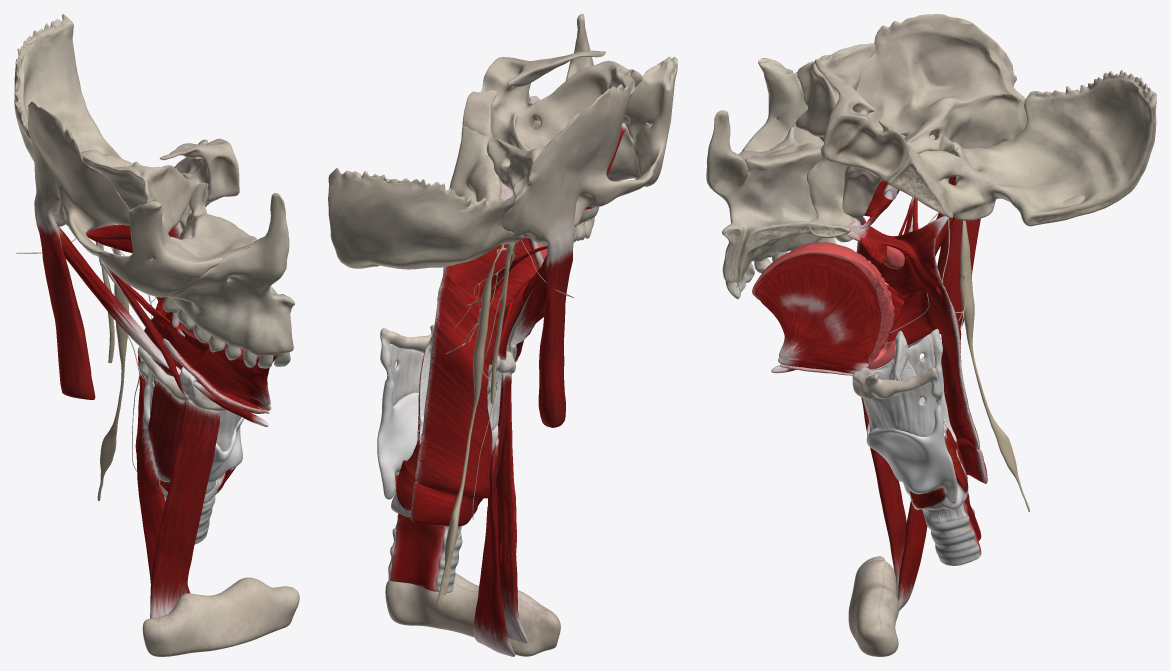
The model's file is pharynx.glb.
3 views of the same model, side by side, from view 1: azimuth 30°, elevation 25°; view 2: azimuth 150°, elevation 25°; view 3: azimuth 270°, elevation 25° (orthographic). The views are drawn at different scales.
Parts seen in each view (by area): view 1: _skull_bones_and_other_muscless2_4, _paltine_and_teeth2_2, Sternohyoid_sternothryoid_and_thyrohyoid_1, Clavicle_and_sternum_4, Spehnoid_and_lateral_pterygoid_1, Occipital_1, _stylohyoid_1, _genioglossus_etc_2, Top_half_larynx, Stylo_and_hyoglossus_3, Cervical_nerve_superior, Mylohyoid_and_geniohyoid_1 (+3 smaller); view 2: _skull_bones_and_other_muscless2_4, Pharynx_8, Occipital_1, Spehnoid_and_lateral_pterygoid_1, Sternohyoid_sternothryoid_and_thyrohyoid_1, Clavicle_and_sternum_4, Top_half_larynx, Trachea, _paltine_and_teeth2_2, Cervical_nerve_superior, Thryhyoid_membrane, Vagus (+3 smaller); view 3: Occipital_1, _skull_bones_and_other_muscless2_4, _paltine_and_teeth2_2, _genioglossus_etc_2, Pharynx_8, Spehnoid_and_lateral_pterygoid_1, Top_half_larynx, Clavicle_and_sternum_4, Sternohyoid_sternothryoid_and_thyrohyoid_1, Thryhyoid_membrane, Cervical_nerve_superior, Trachea (+2 smaller).
Part boxes in pixels (x1,y1,x2,y2): _skull_bones_and_other_muscless2_4: (28, 101, 222, 399); _paltine_and_teeth2_2: (163, 182, 294, 368); Sternohyoid_sternothryoid_and_thyrohyoid_1: (136, 378, 220, 618); Clavicle_and_sternum_4: (142, 577, 299, 656); Spehnoid_and_lateral_pterygoid_1: (83, 138, 239, 252); Occipital_1: (14, 14, 177, 169); _stylohyoid_1: (58, 226, 268, 426); _genioglossus_etc_2: (180, 322, 277, 404); Top_half_larynx: (137, 346, 244, 482); Stylo_and_hyoglossus_3: (104, 264, 207, 376); Cervical_nerve_superior: (97, 224, 151, 500); Mylohyoid_and_geniohyoid_1: (162, 338, 271, 413); _skull_bones_and_other_muscless2_4: (487, 56, 677, 427); Pharynx_8: (411, 189, 547, 526); Occipital_1: (328, 126, 524, 269); Spehnoid_and_lateral_pterygoid_1: (462, 50, 642, 209); Sternohyoid_sternothryoid_and_thyrohyoid_1: (473, 372, 527, 656); Clavicle_and_sternum_4: (385, 573, 560, 656); Top_half_larynx: (377, 325, 515, 499); Trachea: (388, 513, 462, 592); _paltine_and_teeth2_2: (500, 14, 640, 242); Cervical_nerve_superior: (436, 244, 506, 605); Thryhyoid_membrane: (389, 344, 502, 430); Vagus: (453, 240, 573, 519); Occipital_1: (887, 70, 1156, 226); _skull_bones_and_other_muscless2_4: (742, 14, 1027, 333); _paltine_and_teeth2_2: (706, 110, 855, 299); _genioglossus_etc_2: (752, 242, 894, 370); Pharynx_8: (844, 198, 987, 483); Spehnoid_and_lateral_pterygoid_1: (795, 43, 909, 222); Top_half_larynx: (852, 329, 957, 503); Clavicle_and_sternum_4: (848, 556, 899, 656); Sternohyoid_sternothryoid_and_thyrohyoid_1: (861, 397, 927, 610); Thryhyoid_membrane: (862, 334, 937, 436); Cervical_nerve_superior: (955, 220, 1029, 511); Trachea: (925, 492, 981, 565).
Bounding box in the file's own units: 0.9425 × 2.17 × 1.64.
Materials: 24 (20 with a texture image).
